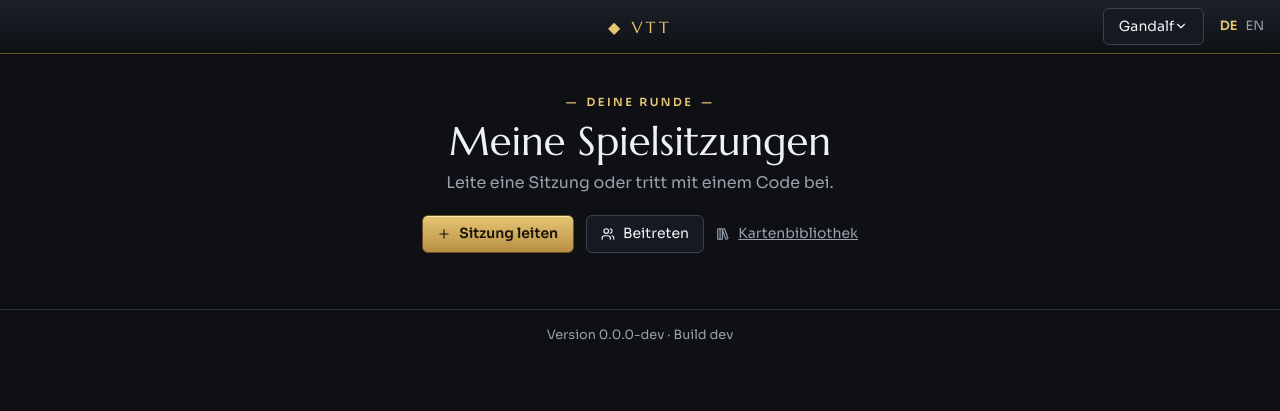
Kontomenü bietet Passwortänderung und Abmelden
The image size is (1280, 411).
Expected: the button "Sitzung leiten" is shown, [422,215,574,253]
Click the button "Gandalf": (1154, 27) [1103,8,1204,45]
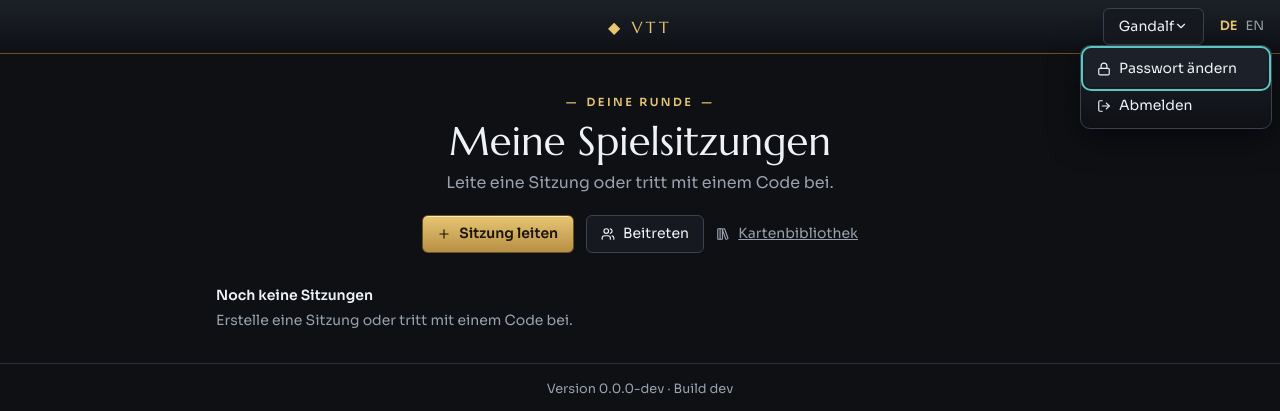
Now the menu items read "Passwort ändern", "Abmelden", in this order, box [1085,50,1267,87]; [1097,96,1192,114]
